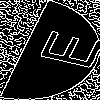E: (25, 25, 100, 72)
